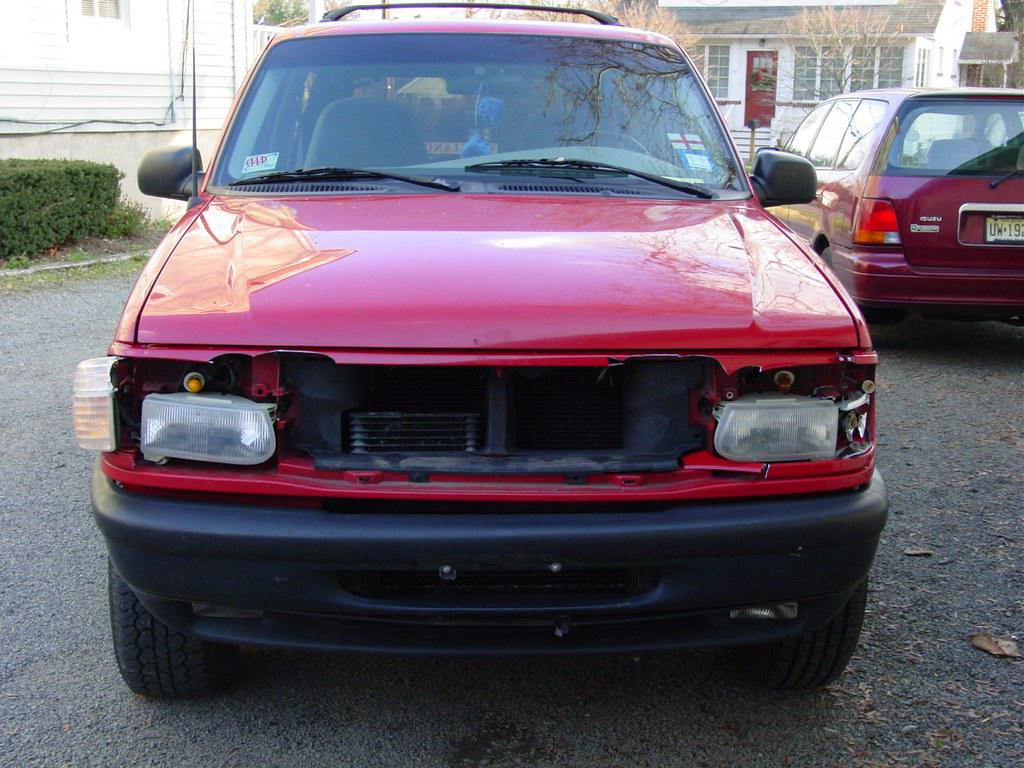Headlight-Damage: (667, 314, 878, 498), (105, 316, 294, 500)
front-bumper-dent: (257, 352, 704, 516)
